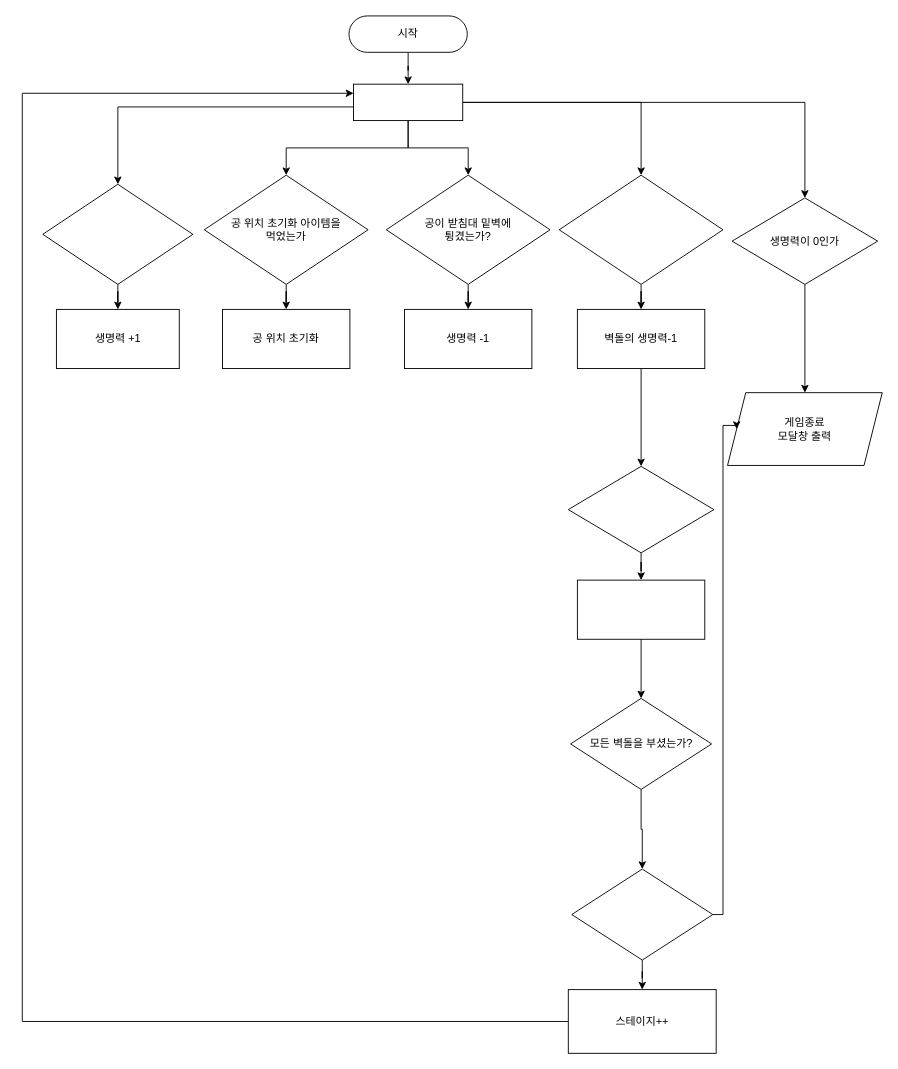
Some shapes in this 898 by 1069 pixel diagram are drawn without their labels. The centre of each missing label's shape, as x and y in pixels:
5스테이지인가?: point 642,914
공이 벽돌에 충돌했는가?: point 640,229
벽돌깨짐: point 640,609
벽돌의 생명력이 0인가: point 640,509
생명력 회복 아이템을 먹었는가: point 117,233
스테이지: point 408,102
